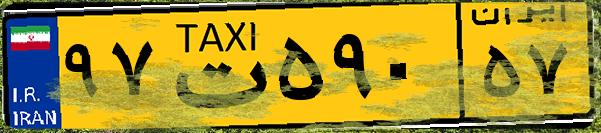0: (385, 28, 445, 110)
5: (270, 28, 330, 110), (475, 38, 525, 113)
7: (525, 38, 570, 115), (110, 28, 158, 98)
9: (330, 28, 385, 110), (57, 26, 110, 100)
ت: (158, 12, 270, 120)
